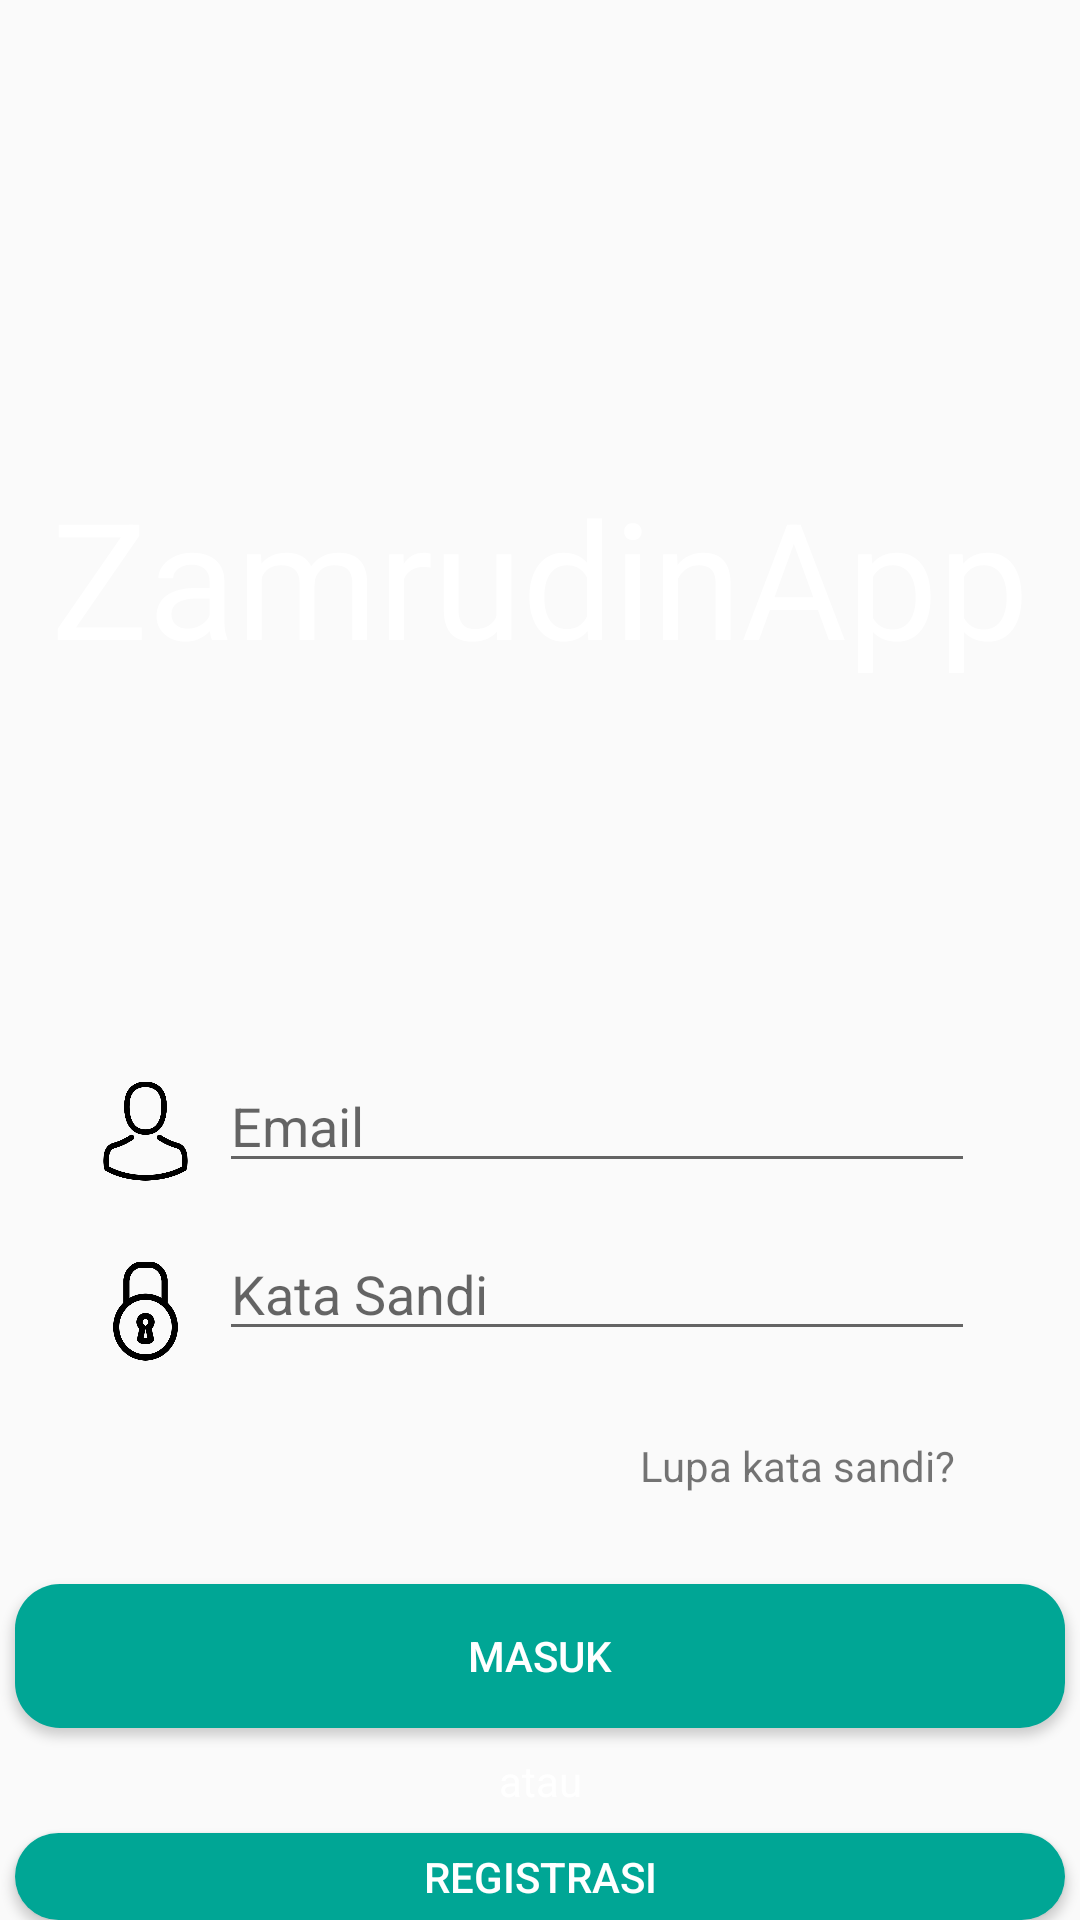

Icon click points for this 1080 × 1920 phone screenshot, format point (x, y):
password: point (145, 1311)
